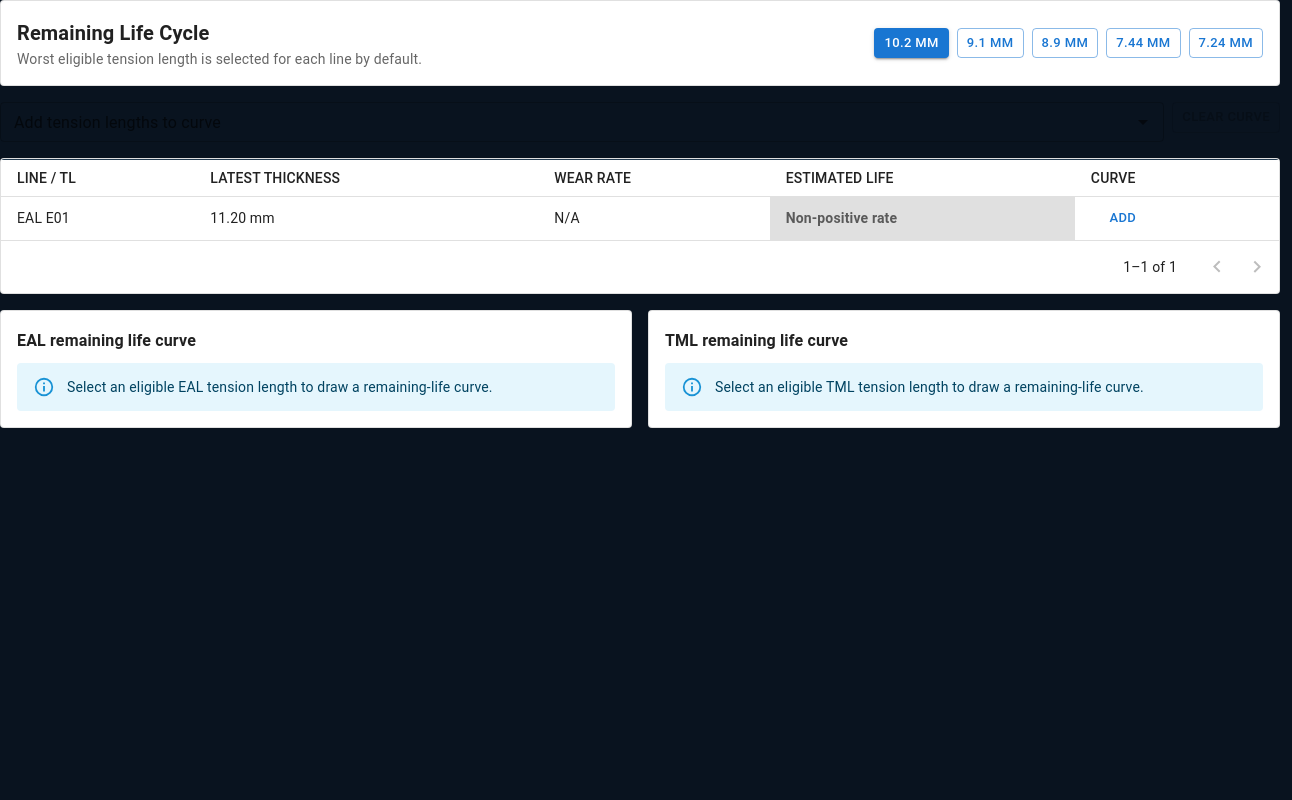
Test case: RemainingLifePanel › shows non-positive rates explicitly and can clear selected curves
Expected: the text "Non-positive rate" is shown, [770,197,1075,241]
Click the button "Add".
click(1123, 218)  # box [1091,203,1155,234]
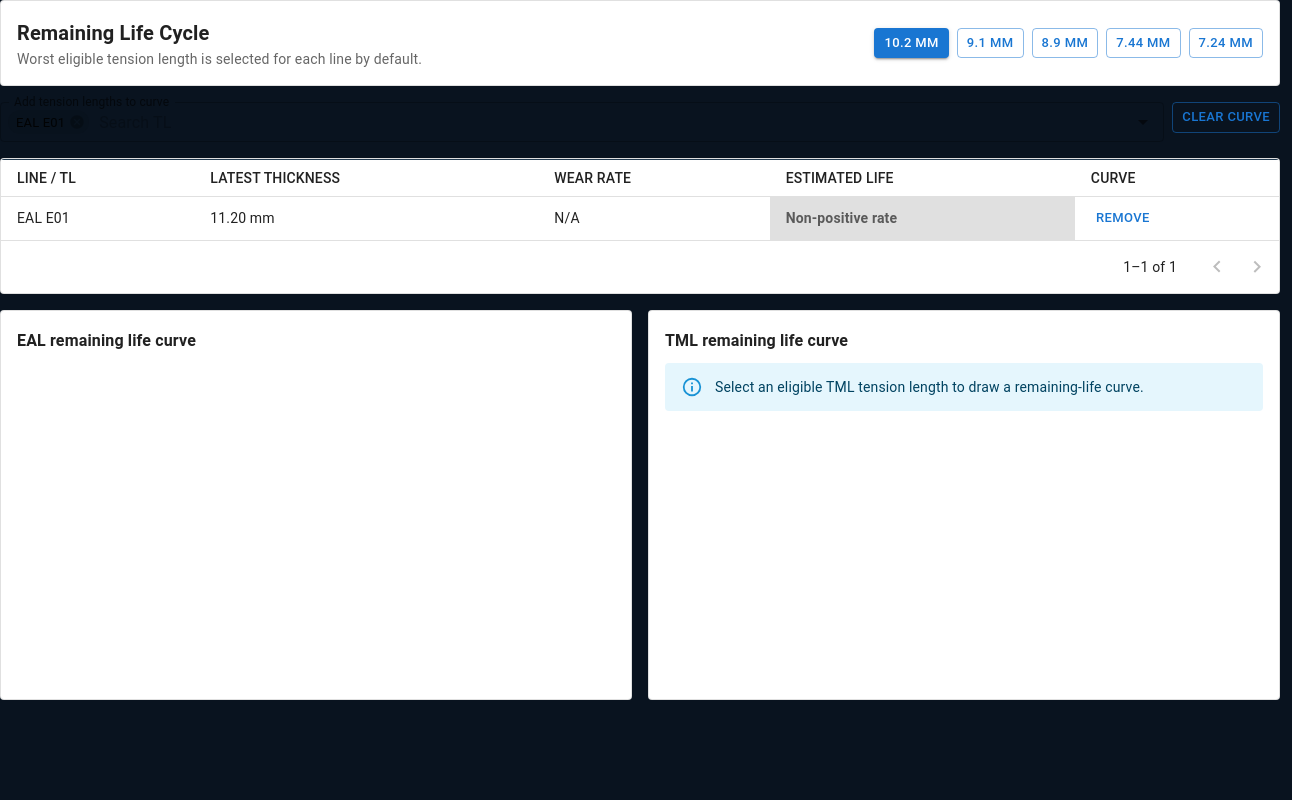
Click the button "Clear curve".
click(1226, 117)  # box [1172,102,1280,133]
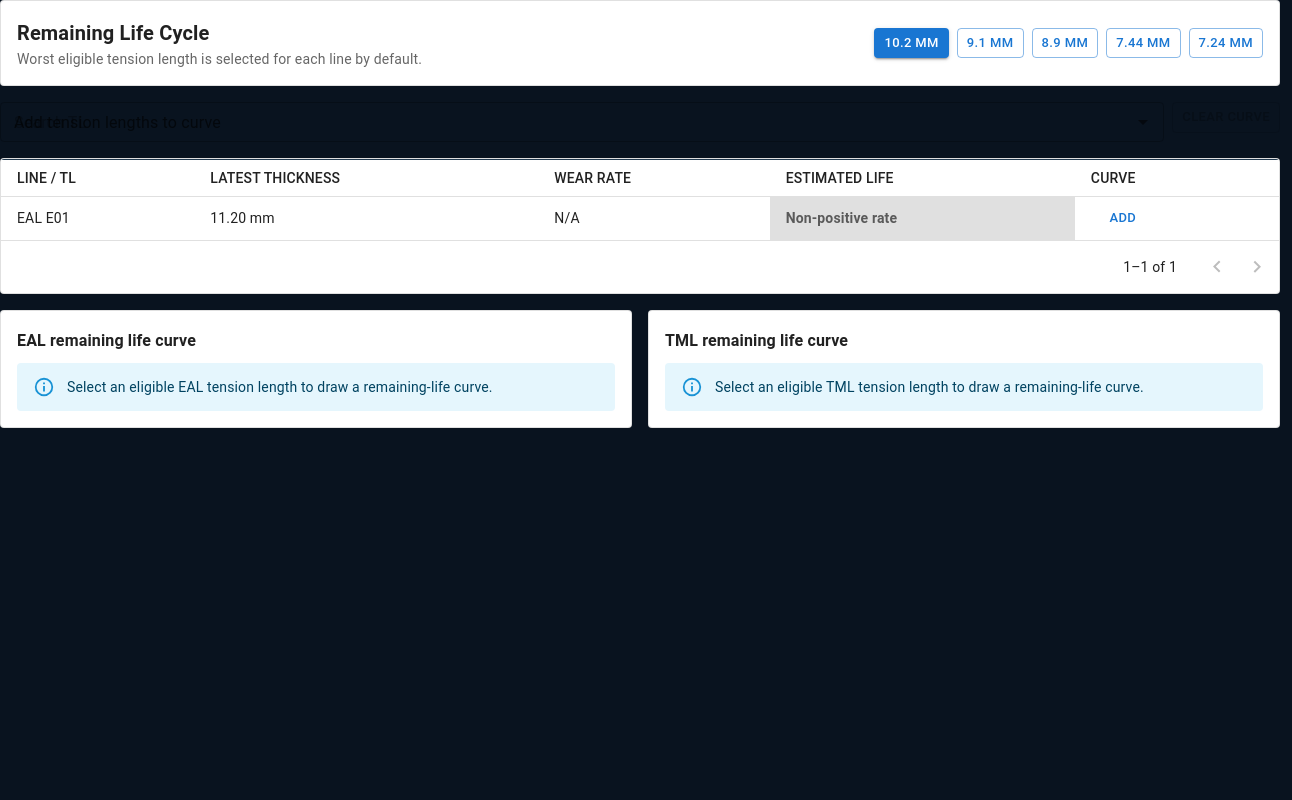
Expected: the button "Add" is shown, [1091,203,1155,234]
